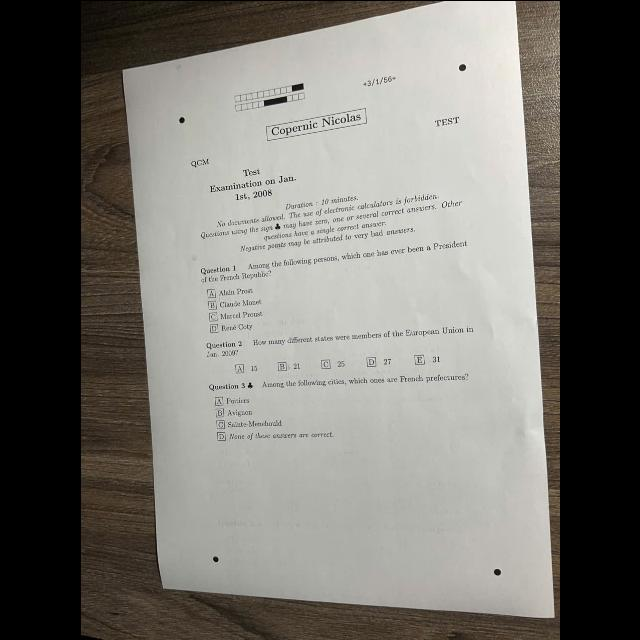Markers: (457, 62, 465, 70), (493, 568, 501, 576), (178, 116, 184, 122), (211, 556, 217, 562)
